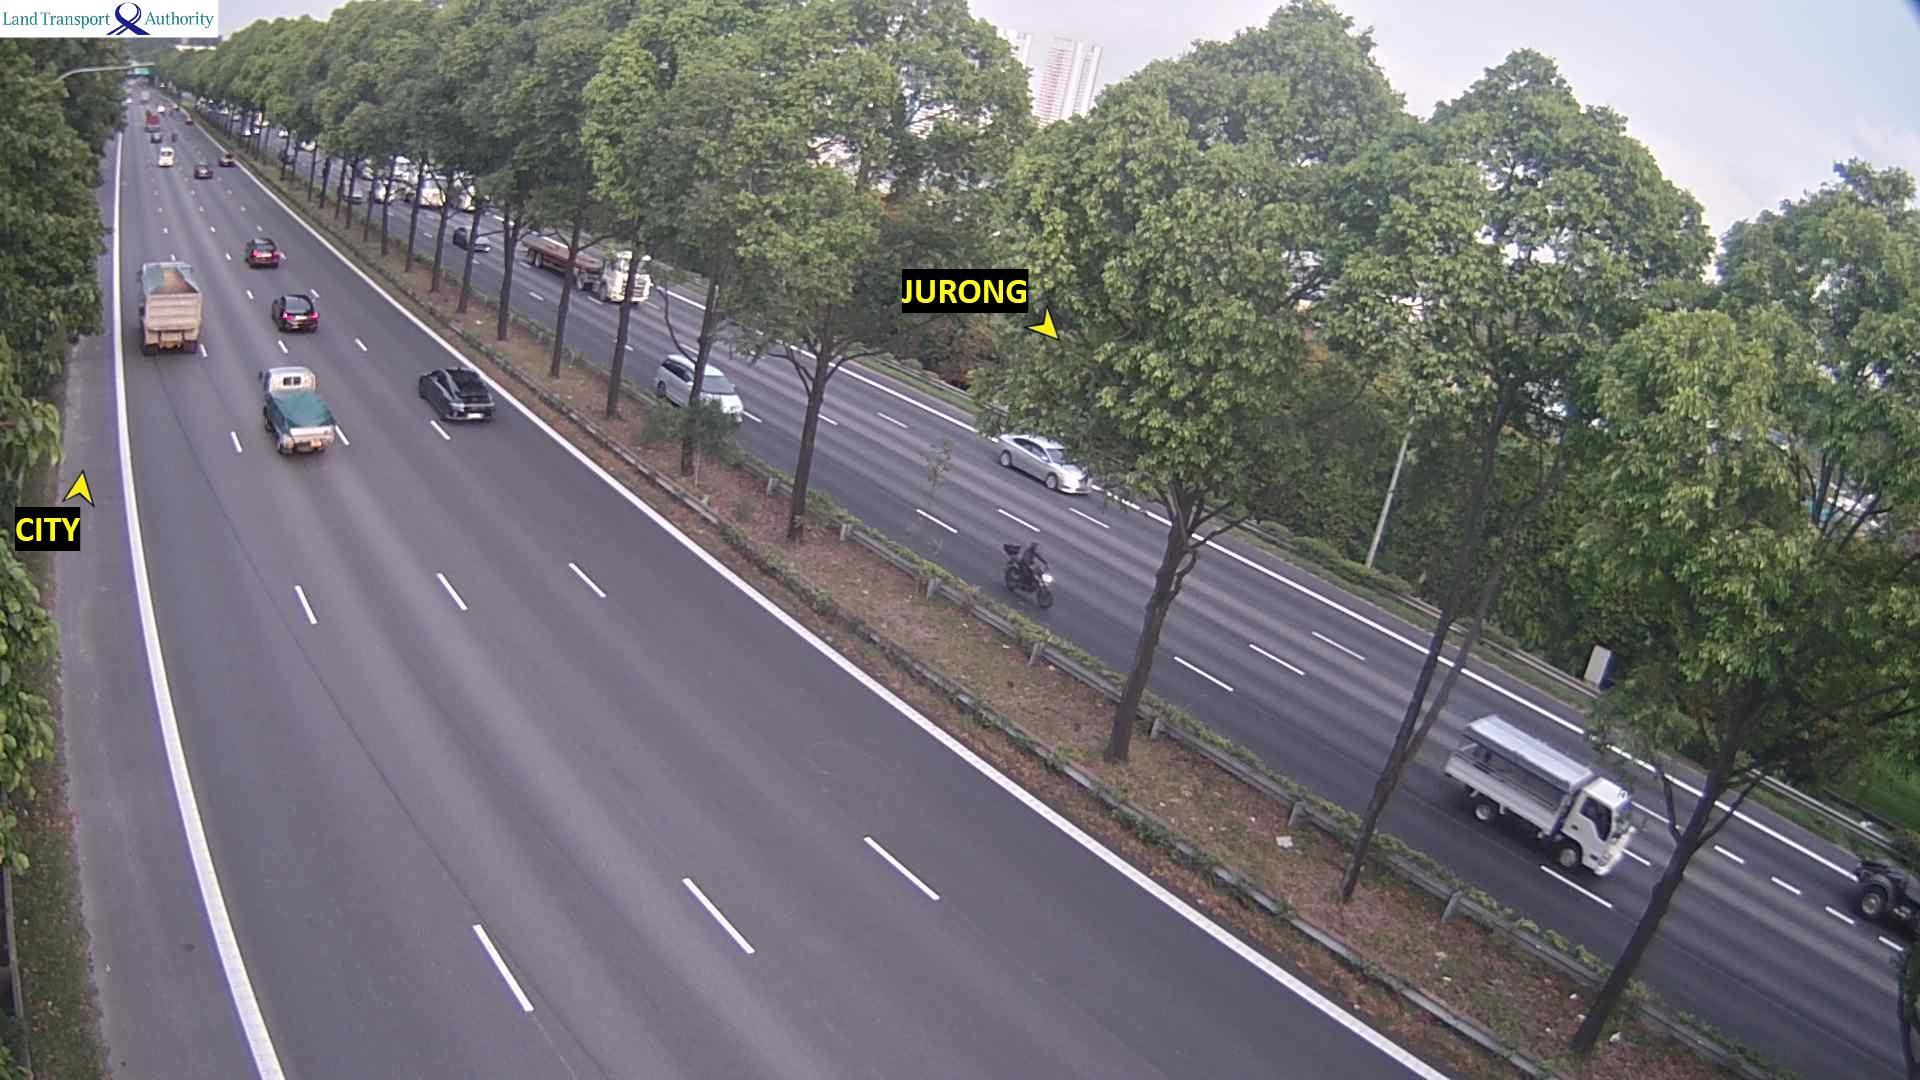incoming: (1572, 783, 1638, 877), (702, 375, 742, 418)
